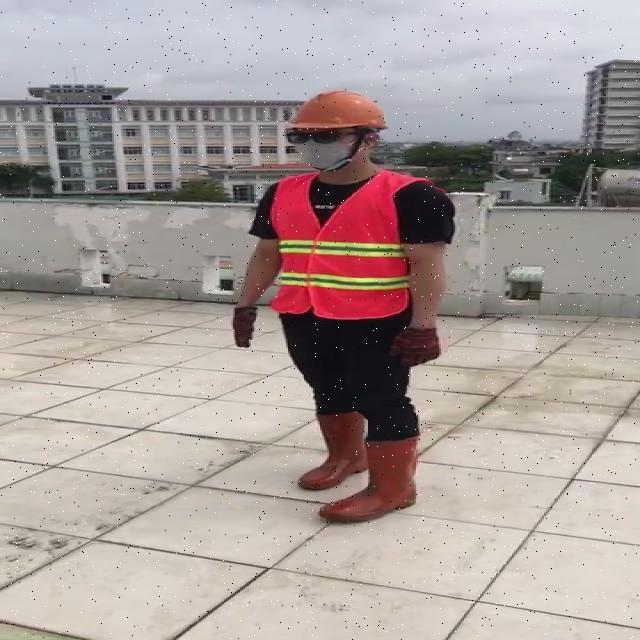Hard_hat: (281, 89, 396, 147)
Person: (224, 85, 464, 532)
Vest: (276, 166, 415, 317)
